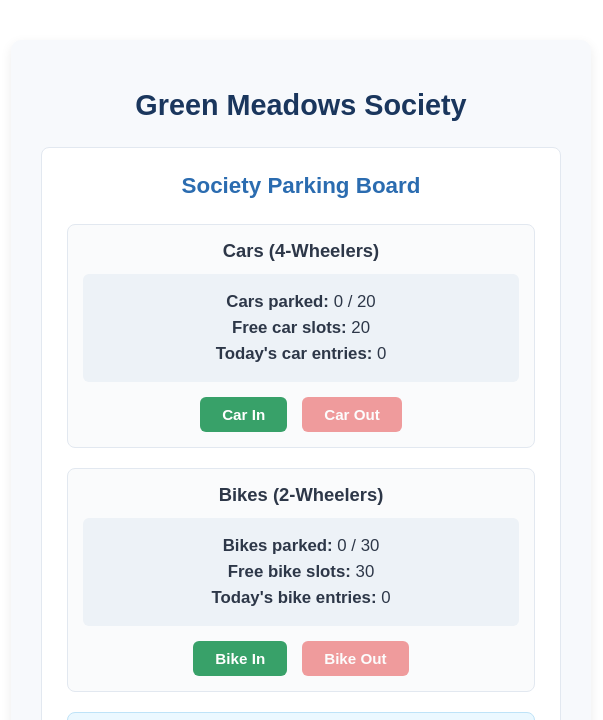
Scenario: Reset Day button resets all four values back to 0
Park vehicles
Click the button "Car In". click: (244, 415)
box: [200, 397, 287, 432]
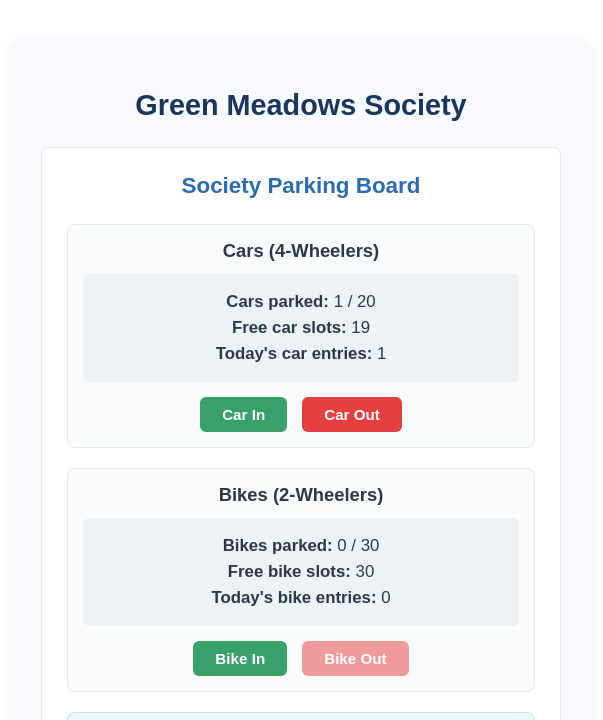
Click the button "Bike In". click: (240, 659)
box: [193, 641, 287, 676]
(page scrolled)
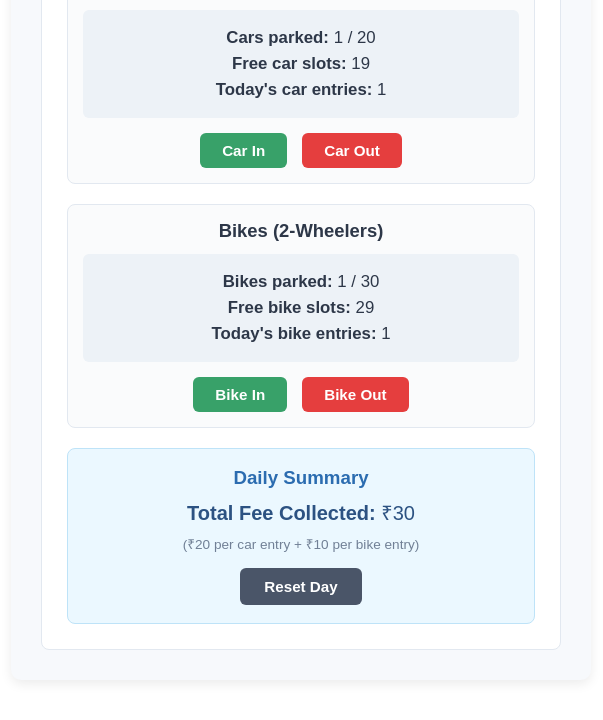
Click Reset Day
Click the button "Reset Day". click: (301, 587)
box: [240, 568, 362, 605]
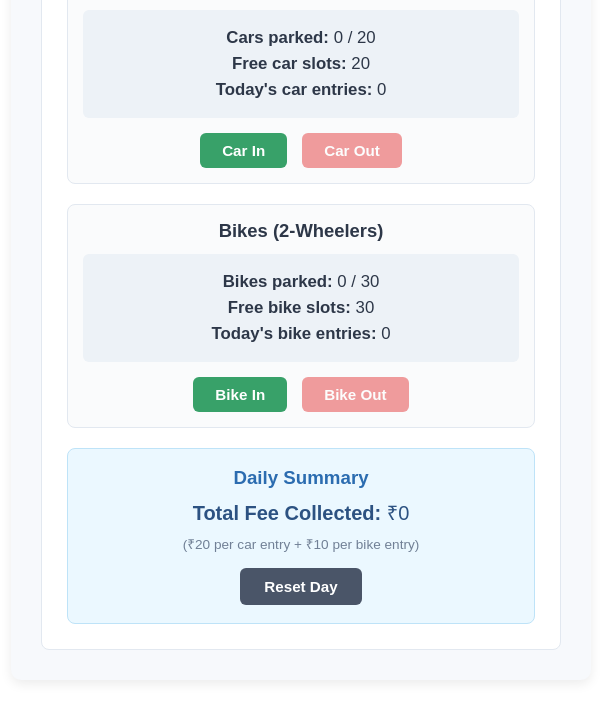
Check: the element showing "Cars parked: 0 / 20" is shown, box [226, 28, 376, 47]
Check: the element showing "Bikes parked: 0 / 30" is shown, box [223, 272, 379, 291]
Check: the element showing "Today's car entries: 0" is shown, box [216, 80, 386, 99]
